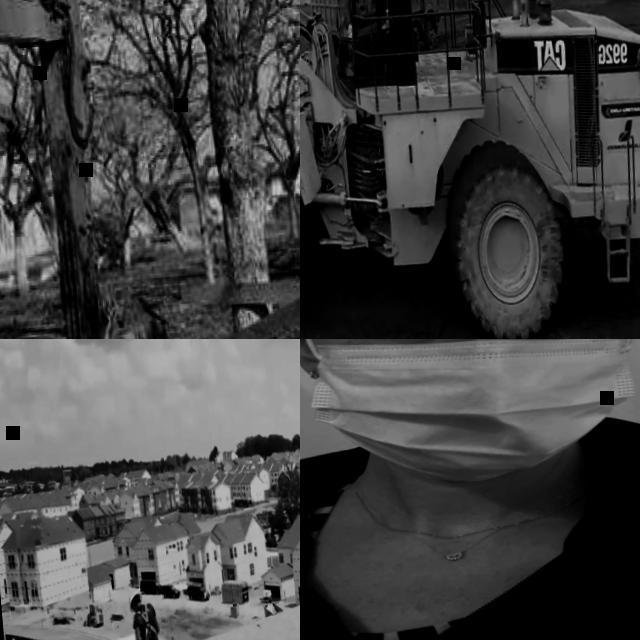Hardhat: (128, 585, 143, 611)
Mask: (300, 339, 640, 495)
NO-Safety Vest: (300, 427, 640, 640), (136, 601, 158, 640), (365, 0, 376, 15)
Person: (300, 339, 640, 640), (129, 585, 169, 640), (350, 0, 380, 32)
vehicle: (300, 0, 640, 339), (0, 0, 196, 339), (300, 0, 448, 60), (82, 600, 106, 628), (187, 581, 210, 602), (140, 577, 163, 596), (161, 582, 180, 600)
